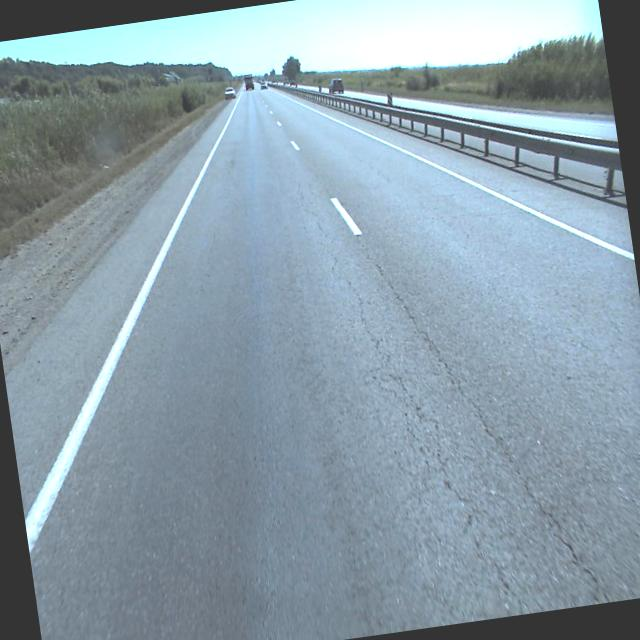road: (5, 84, 640, 640)
